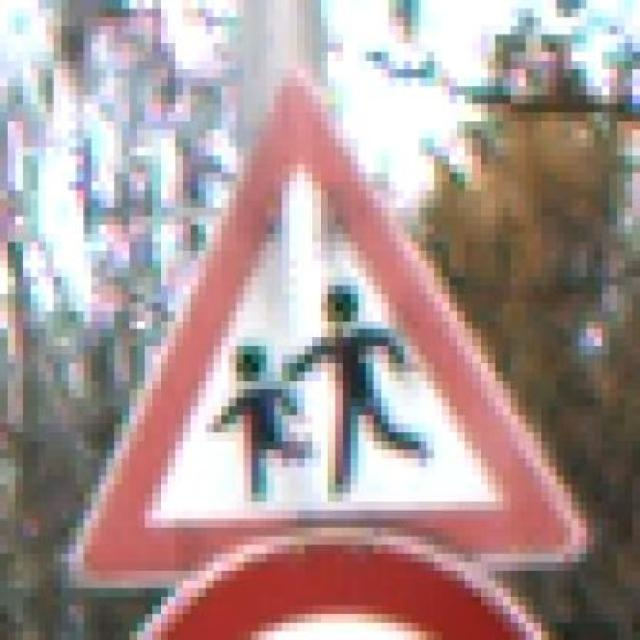Beware of children: (53, 69, 602, 588)
